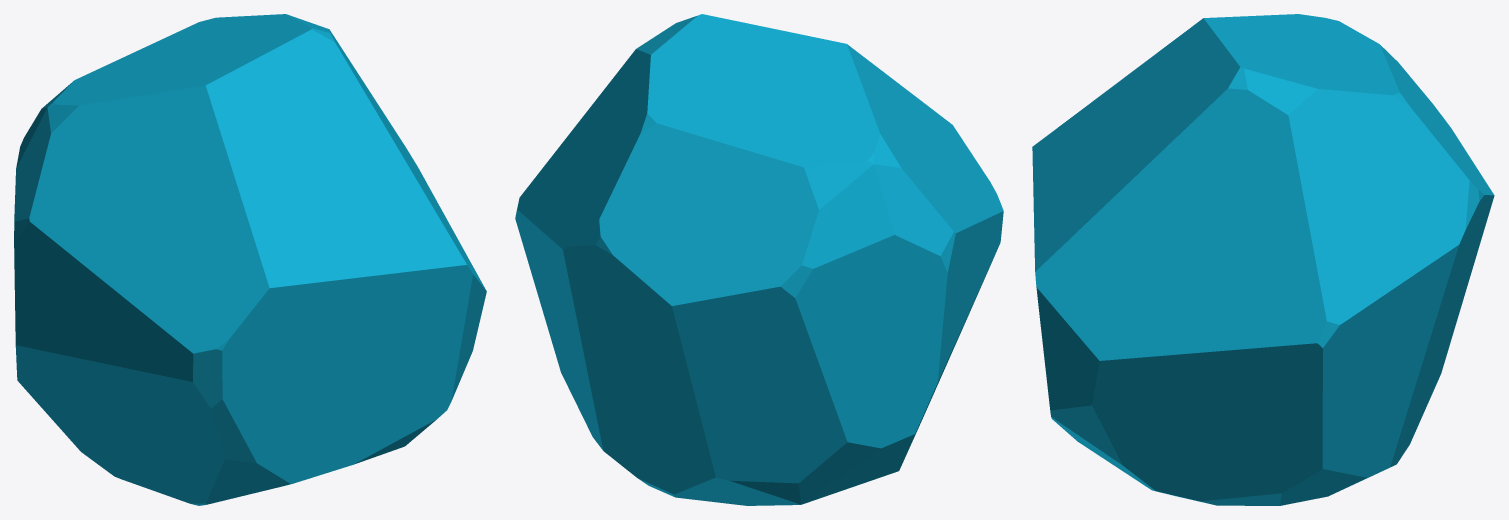
The model's file is IceFloetModel.fbx.
The picture shows the model from 3 angles, left to right: view 1: azimuth 30°, elevation 25°; view 2: azimuth 150°, elevation 25°; view 3: azimuth 270°, elevation 25°; orthographic projection.
Parts seen in each view (by area): view 1: Icosphere; view 2: Icosphere; view 3: Icosphere.
Boxes of the visible parts, <box> form: Icosphere: <box>14,14,486,505</box>; Icosphere: <box>515,14,1003,505</box>; Icosphere: <box>1032,14,1494,505</box>.
Bounding box in the file's own units: 183 × 170 × 174.
